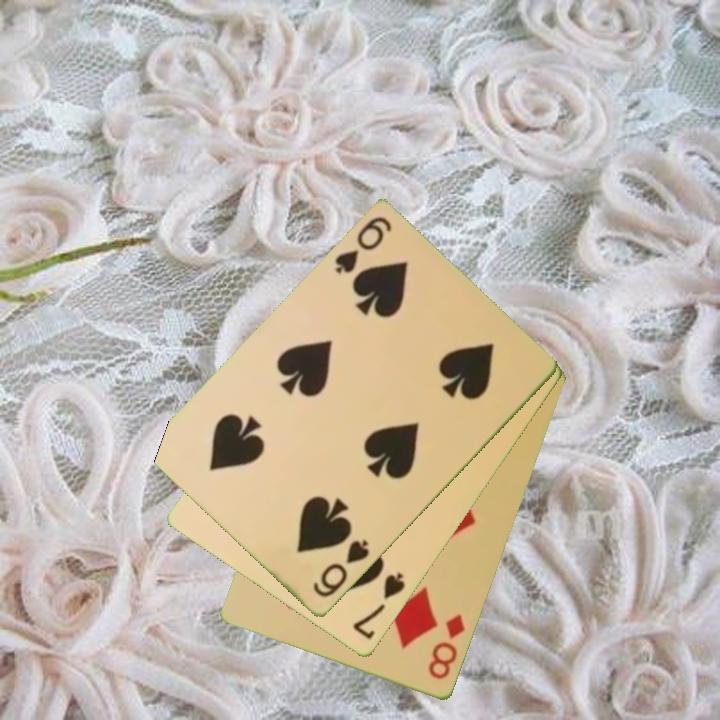6s: (331, 213, 395, 278), (309, 536, 372, 601)
7s: (349, 569, 409, 643)
8d: (424, 611, 468, 683)
